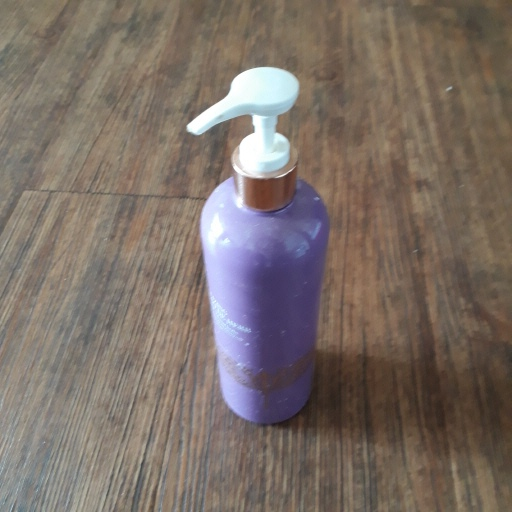Plastic_3: (183, 67, 328, 428)
